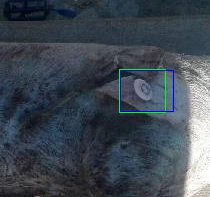text: (119, 69, 165, 112)
